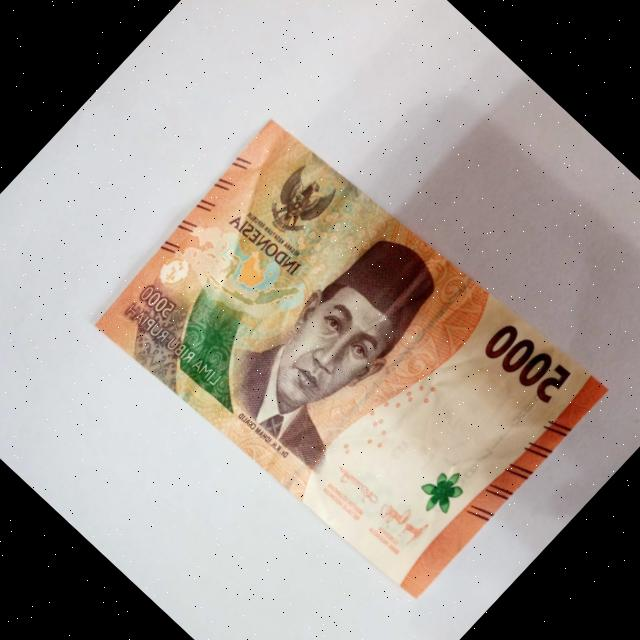5K: (78, 87, 628, 630)
